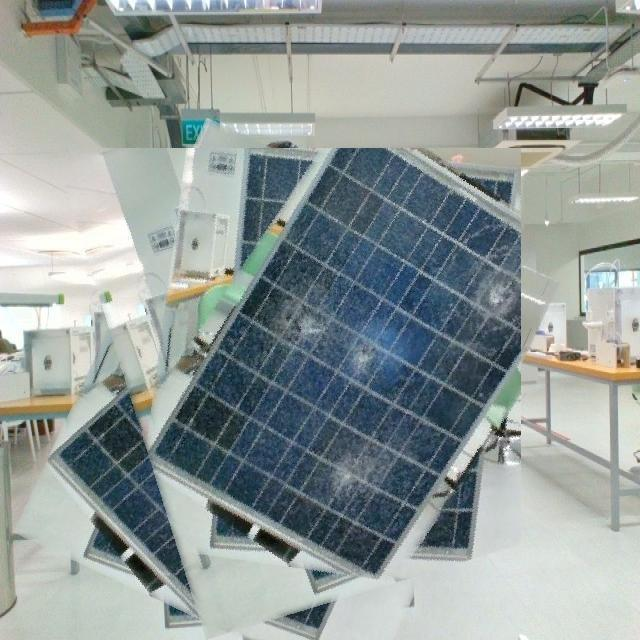Anomaly Solar Panel: (146, 147, 521, 574)
Structural Damage: (276, 275, 388, 399), (298, 418, 413, 519), (442, 231, 520, 356), (239, 150, 314, 264), (417, 453, 477, 546)
